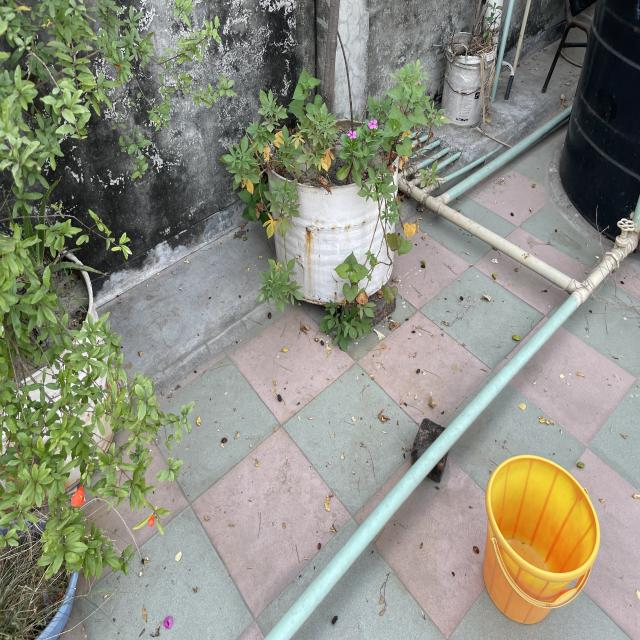Breeding Place: (271, 116, 395, 312), (483, 457, 599, 627), (447, 34, 496, 135)
